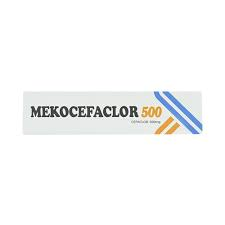Mekocefaclor: (29, 104, 139, 119)
